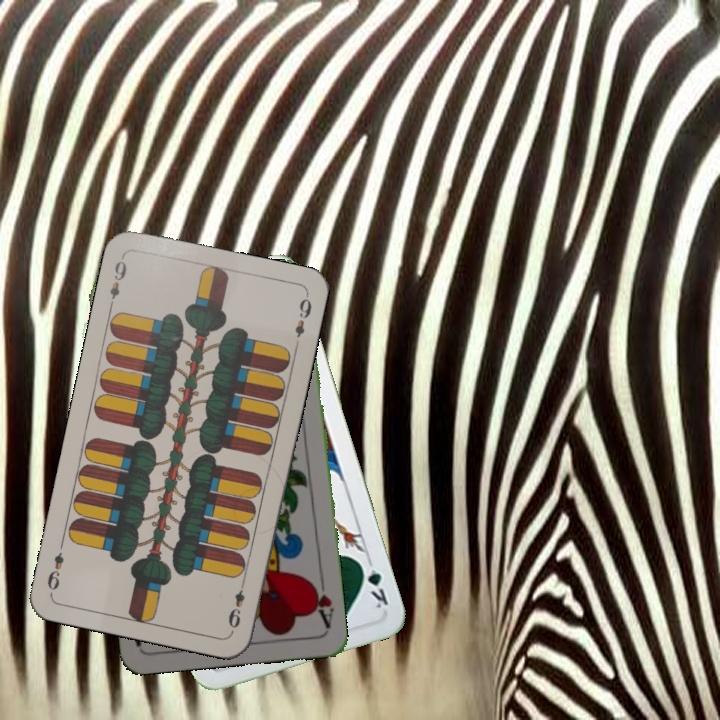E9: (224, 575, 248, 634), (105, 252, 129, 311)
GK: (356, 554, 391, 612)
HA: (307, 572, 337, 631)
